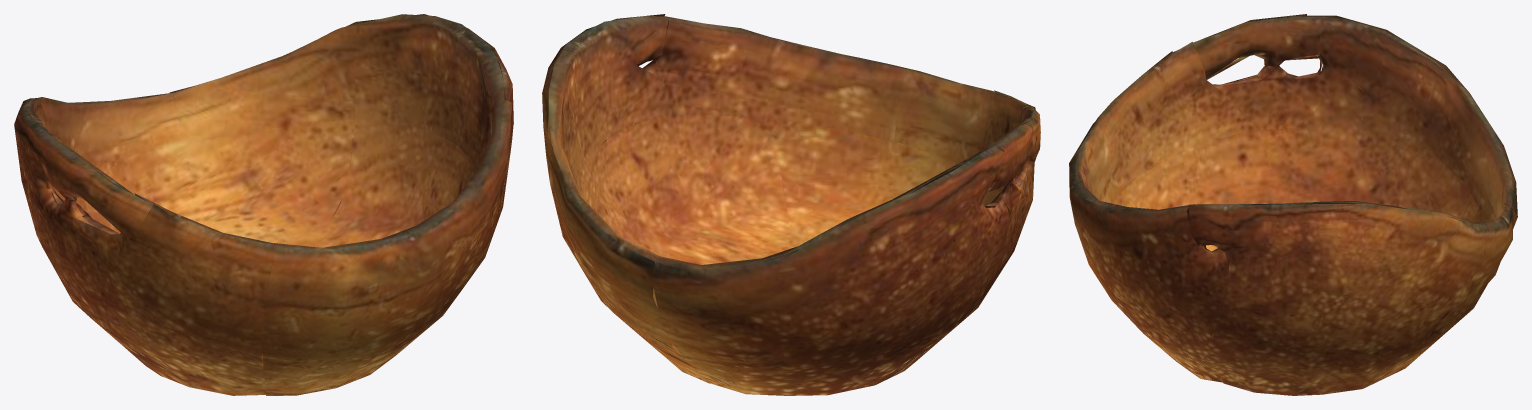
File: bowl_small.glb
3 views of the same model, side by side, from view 1: azimuth 30°, elevation 25°; view 2: azimuth 150°, elevation 25°; view 3: azimuth 270°, elevation 25° (orthographic). The views are drawn at different scales.
Parts seen in each view (by area): view 1: wooden_bowl_02; view 2: wooden_bowl_02; view 3: wooden_bowl_02.
Boxes of the visible parts, x1,y1,x2,y2 form: wooden_bowl_02: (14,14,513,395); wooden_bowl_02: (542,14,1040,395); wooden_bowl_02: (1069,14,1517,395).
Bounding box in the file's own units: 0.1304 × 0.0735 × 0.1243.
1 material, 1 textured.
